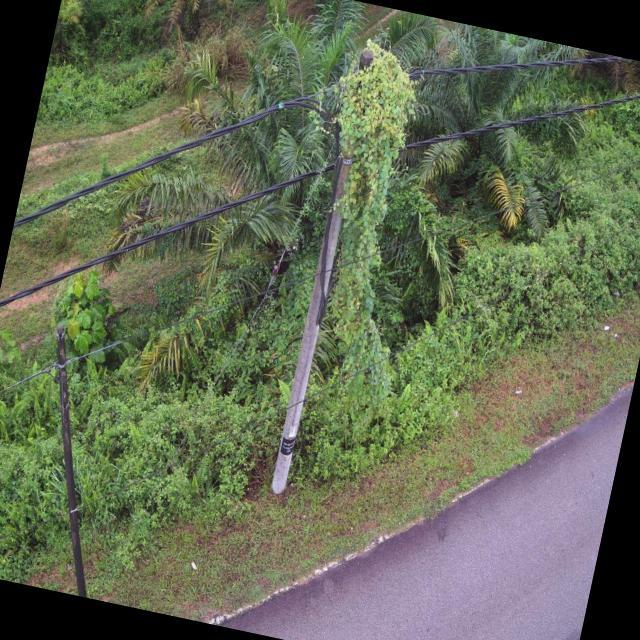critical vegetation: (240, 27, 467, 436)
